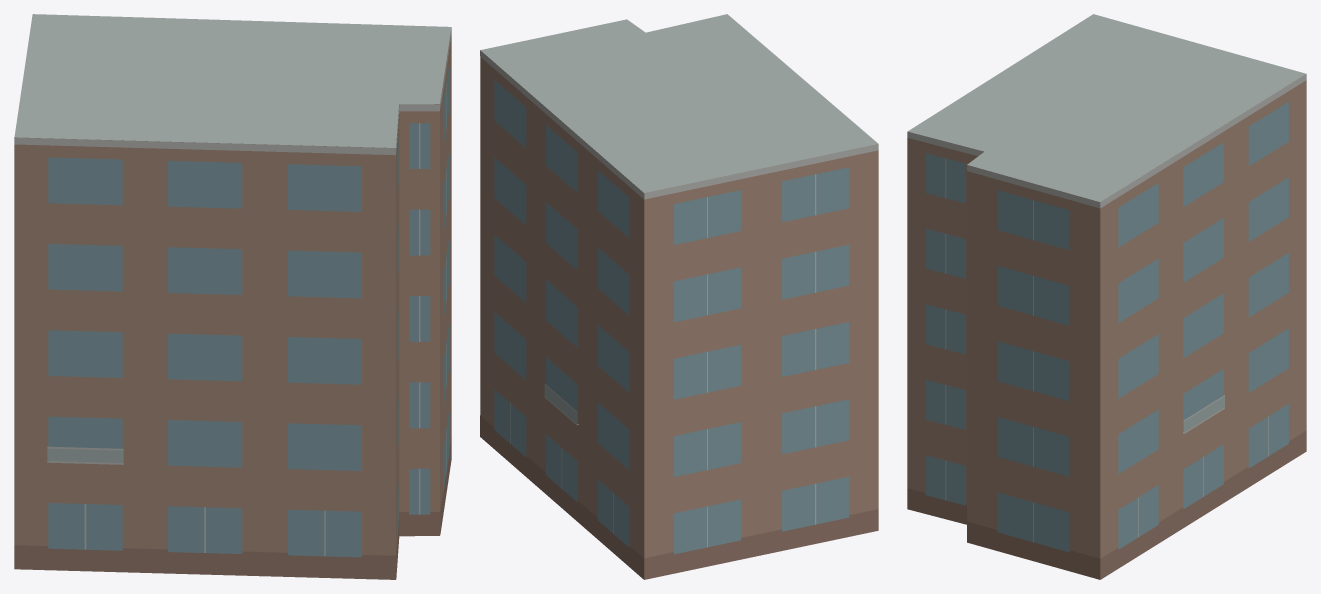
Rendered from survey-upis-32971675.glb.
3 renders of one model, left to right at view 1: azimuth 30°, elevation 25°; view 2: azimuth 150°, elevation 25°; view 3: azimuth 270°, elevation 25°, orthographic. The views are drawn at different scales.
Visible parts, largest first — view 1: survey-upis-32971675.tmp; view 2: survey-upis-32971675.tmp; view 3: survey-upis-32971675.tmp.
Part boxes in pixels (x1,y1,x2,y2): survey-upis-32971675.tmp: [14, 14, 451, 579]; survey-upis-32971675.tmp: [480, 14, 878, 579]; survey-upis-32971675.tmp: [907, 14, 1306, 579].
Size of the model in its own units: 15.83 by 14.8 by 14.19.
